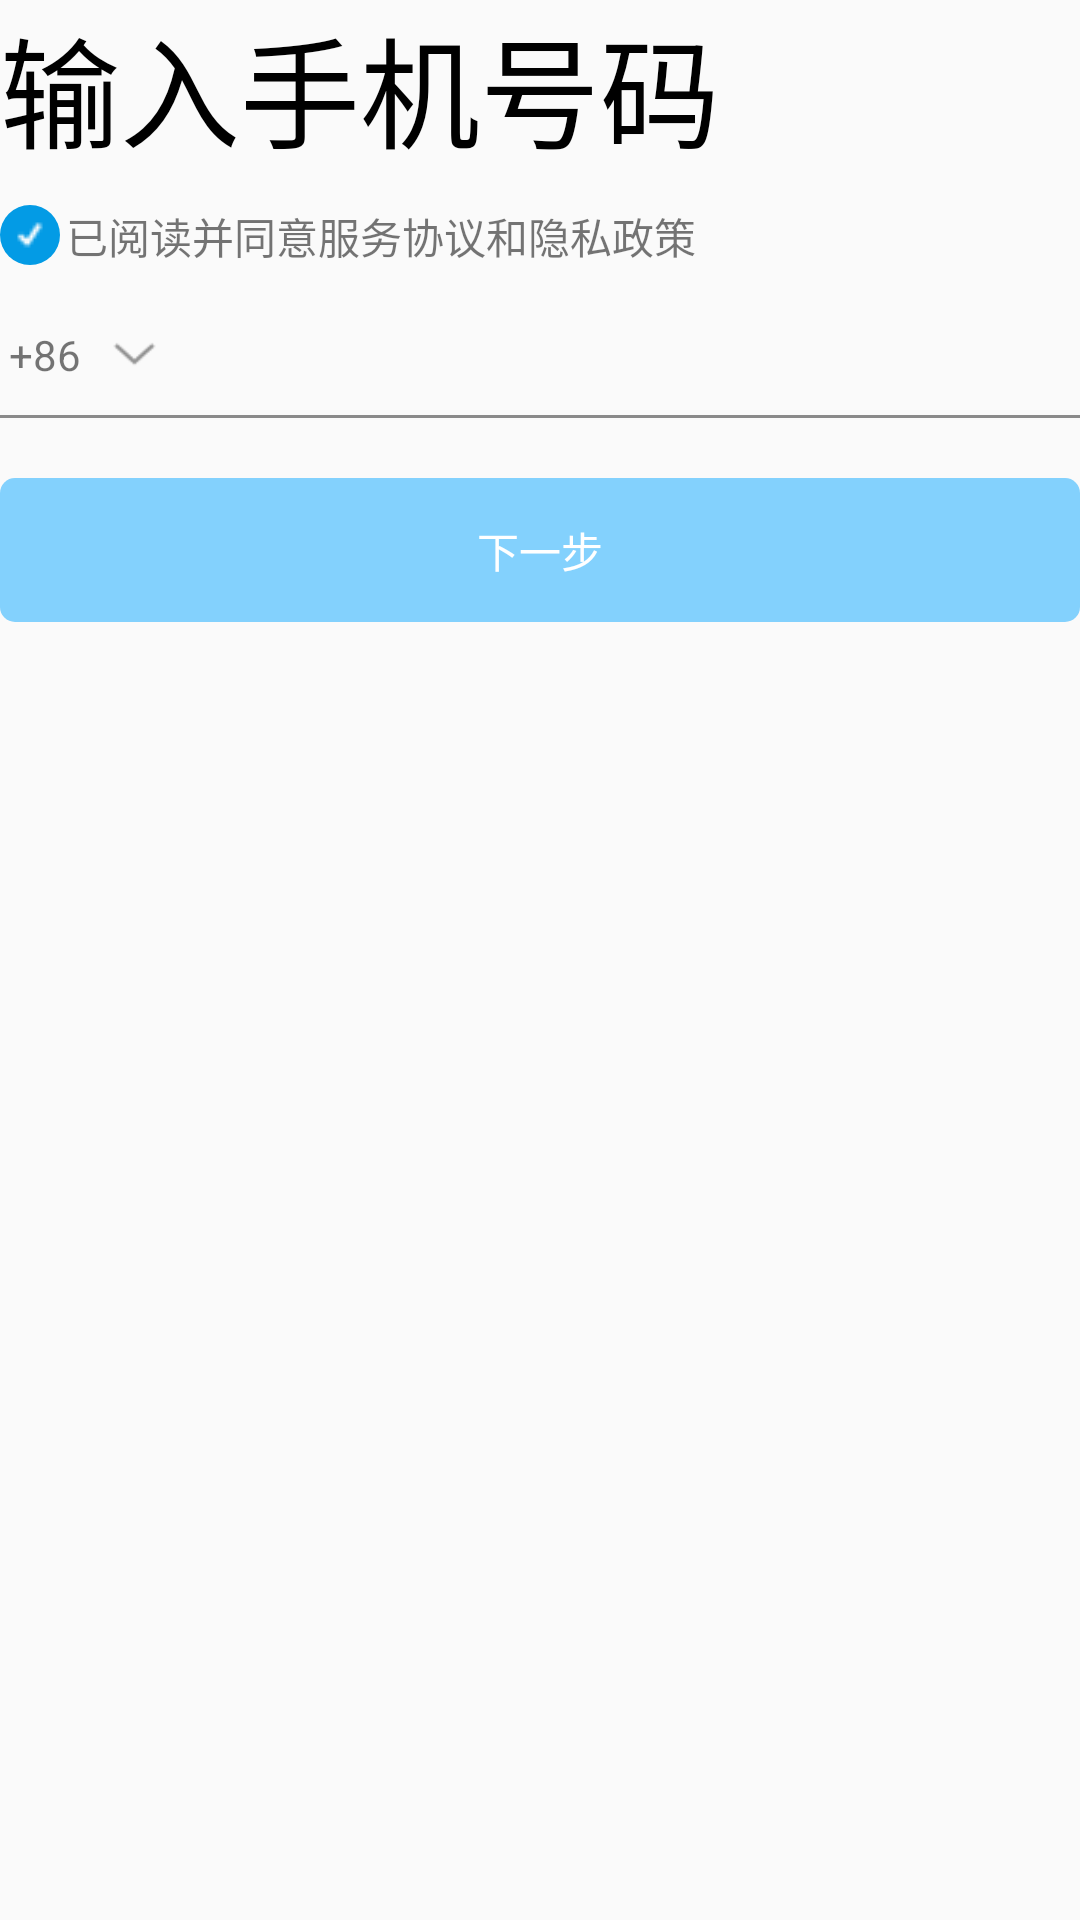

Named icons in this screenshot (1080x1920) and their centers, (x,y):
arrow down: (134,353)
checkbox def style: (30,235)
